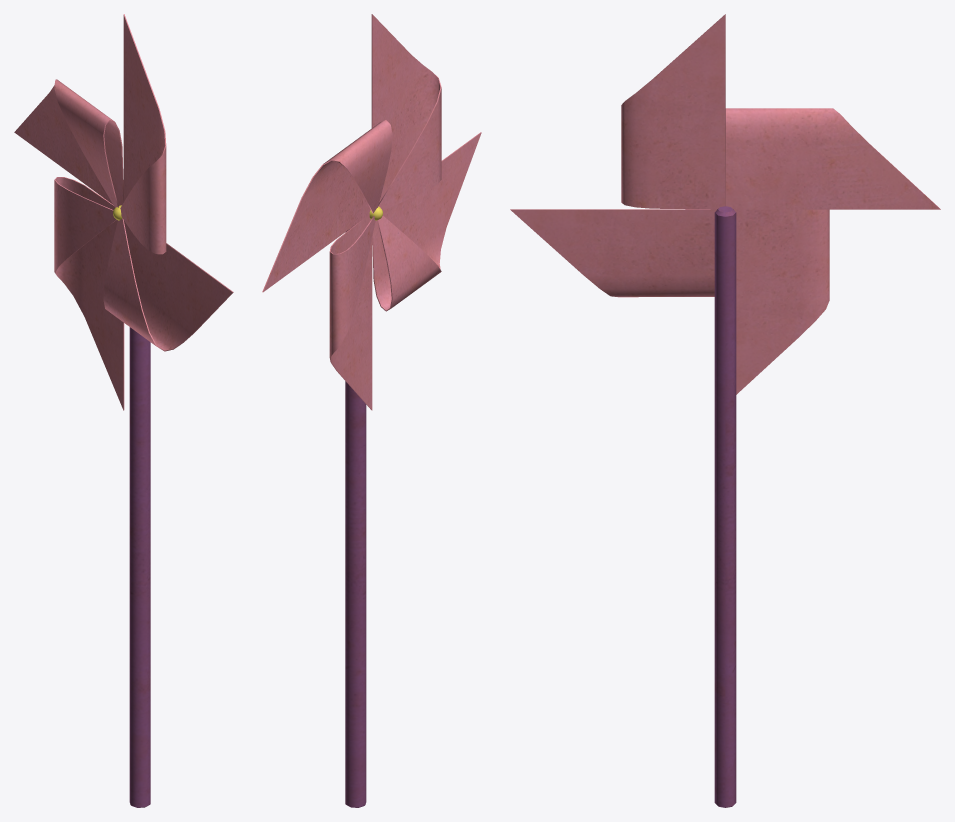
Rendered from Pinwheel_02.fbx.
3 views of the same model, side by side, from view 1: azimuth 30°, elevation 25°; view 2: azimuth 150°, elevation 25°; view 3: azimuth 270°, elevation 25° (orthographic).
Parts seen in each view (by area): view 1: Pinwheel_Blades.002, Pinwheel_Handle; view 2: Pinwheel_Blades.002, Pinwheel_Handle; view 3: Pinwheel_Blades.002, Pinwheel_Handle.
Part boxes in pixels (left/top/right/bottom): Pinwheel_Blades.002: left=14, top=14, right=233, bottom=410; Pinwheel_Handle: left=129, top=327, right=150, bottom=807; Pinwheel_Blades.002: left=262, top=14, right=481, bottom=410; Pinwheel_Handle: left=345, top=229, right=366, bottom=807; Pinwheel_Blades.002: left=510, top=14, right=940, bottom=394; Pinwheel_Handle: left=714, top=206, right=736, bottom=807.
Bounding box in the file's own units: 0.2442 × 2 × 4.01.
